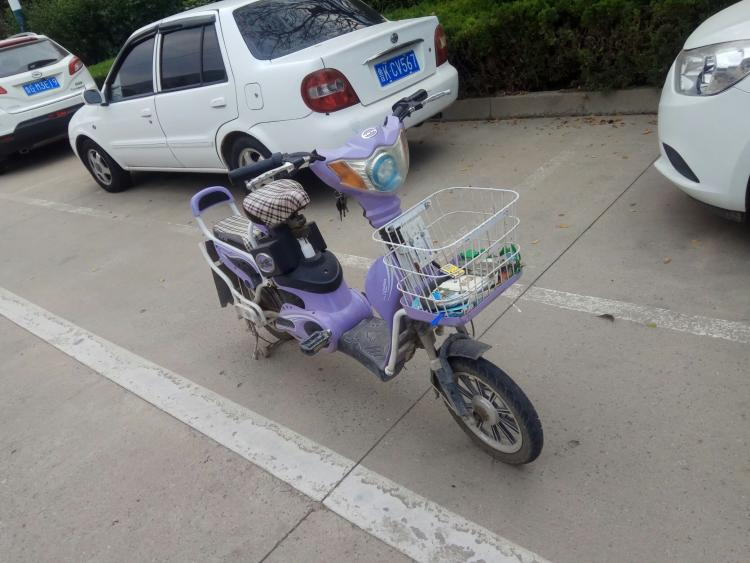电动车: (188, 84, 564, 480)
